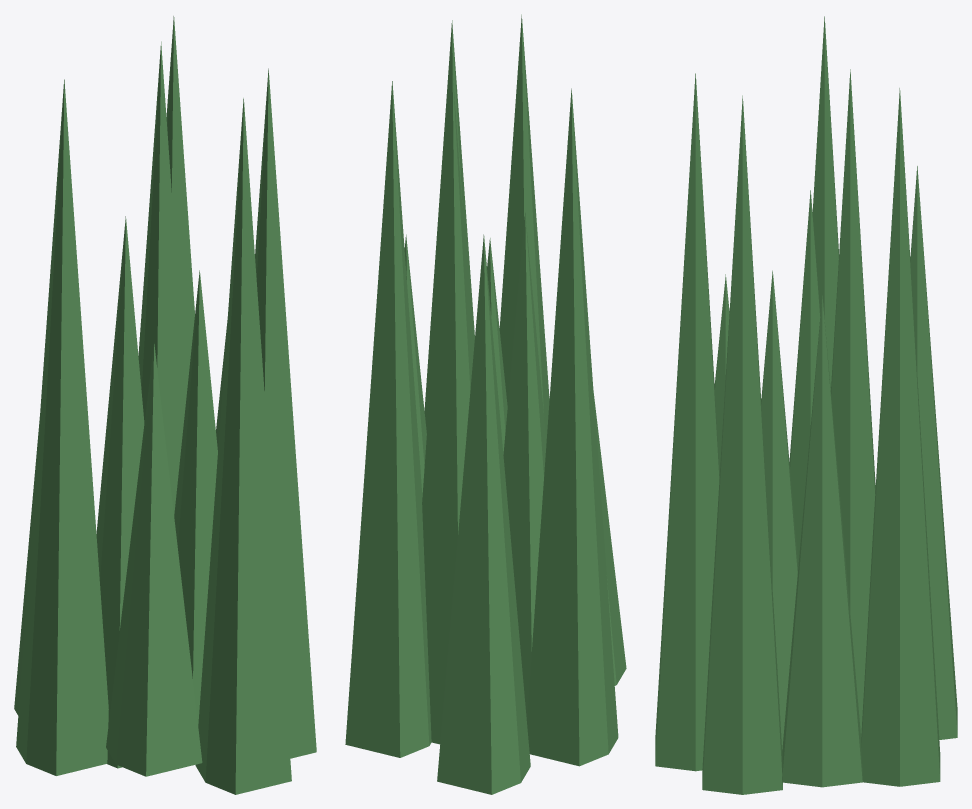
File: grass.fbx
3 views of the same model, side by side, from view 1: azimuth 30°, elevation 25°; view 2: azimuth 150°, elevation 25°; view 3: azimuth 270°, elevation 25° (orthographic). The views are drawn at different scales.
Visible parts, largest first — view 1: pCylinder10, pCylinder9, pCylinder8, pCylinder7, pCylinder6, pCylinder2, pCylinder3, pCylinder11, pCylinder5; view 2: pCylinder9, pCylinder11, pCylinder5, pCylinder2, pCylinder6, pCylinder10, pCylinder7, pCylinder8, pCylinder4, pCylinder3; view 3: pCylinder7, pCylinder11, pCylinder10, pCylinder4, pCylinder2, pCylinder5, pCylinder3, pCylinder6, pCylinder9, pCylinder8.
Part boxes in pixels (left/top/right/bottom): pCylinder10: left=195, top=98, right=291, bottom=794; pCylinder9: left=16, top=79, right=108, bottom=775; pCylinder8: left=106, top=342, right=202, bottom=776; pCylinder7: left=255, top=68, right=316, bottom=758; pCylinder6: left=96, top=216, right=144, bottom=768; pCylinder2: left=138, top=41, right=186, bottom=515; pCylinder3: left=174, top=270, right=217, bottom=725; pCylinder11: left=166, top=16, right=194, bottom=397; pCylinder5: left=14, top=417, right=39, bottom=715; pCylinder9: left=527, top=88, right=618, bottom=766; pCylinder11: left=345, top=81, right=431, bottom=757; pCylinder5: left=437, top=234, right=530, bottom=794; pCylinder2: left=422, top=71, right=473, bottom=744; pCylinder6: left=503, top=213, right=546, bottom=720; pCylinder10: left=499, top=14, right=549, bottom=441; pCylinder7: left=424, top=20, right=474, bottom=432; pCylinder8: left=593, top=390, right=626, bottom=685; pCylinder4: left=404, top=234, right=426, bottom=496; pCylinder3: left=487, top=238, right=507, bottom=454; pCylinder7: left=702, top=95, right=782, bottom=794; pCylinder11: left=861, top=88, right=940, bottom=786; pCylinder10: left=655, top=73, right=719, bottom=771; pCylinder4: left=782, top=295, right=862, bottom=787; pCylinder2: left=831, top=69, right=875, bottom=736; pCylinder5: left=910, top=166, right=957, bottom=739; pCylinder3: left=761, top=270, right=798, bottom=749; pCylinder6: left=789, top=190, right=820, bottom=564; pCylinder9: left=812, top=16, right=838, bottom=389; pCylinder8: left=714, top=274, right=729, bottom=470.
Bounding box in the file's own units: 1.53 × 4.04 × 1.61.
